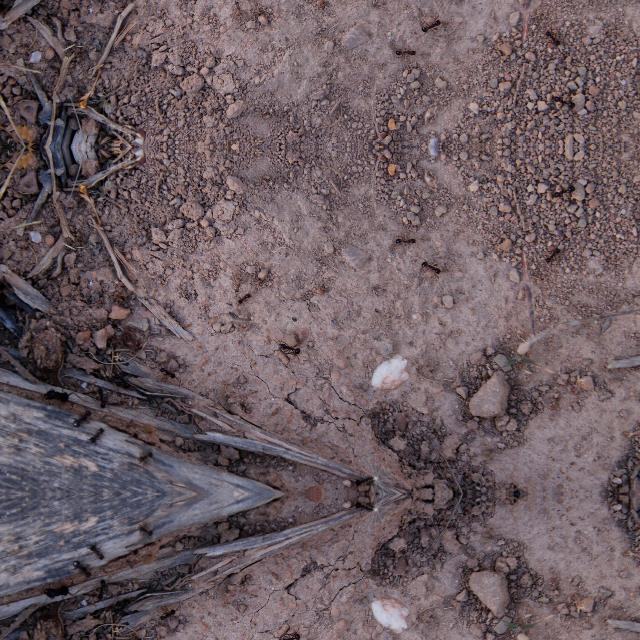Messor: (222, 285, 264, 315), (158, 362, 194, 390), (158, 596, 194, 624), (275, 339, 309, 366), (275, 619, 309, 640), (124, 448, 156, 468), (124, 518, 156, 538), (542, 182, 578, 198), (542, 94, 578, 110), (349, 471, 377, 491), (349, 495, 377, 515), (394, 232, 428, 248), (84, 426, 118, 442), (394, 44, 428, 60), (84, 544, 118, 560), (542, 242, 566, 262), (542, 30, 566, 50), (414, 262, 448, 274), (414, 18, 448, 30), (75, 408, 93, 428), (75, 558, 93, 578), (221, 0, 264, 7)
